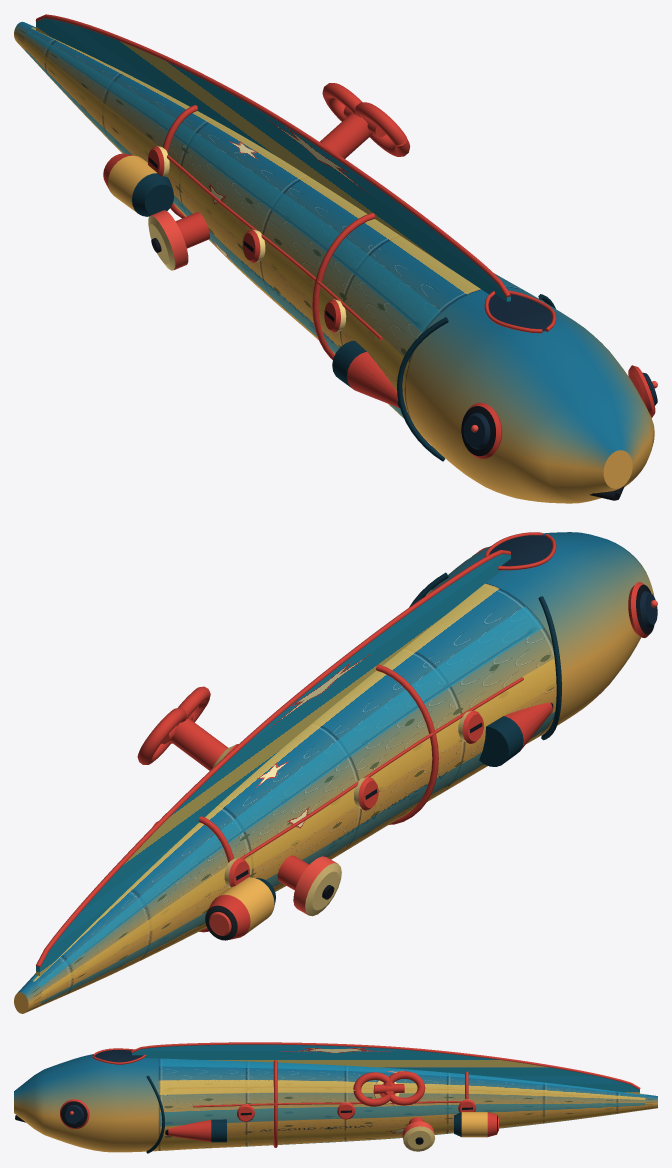
The picture shows the model from 3 angles, top to bottom: view 1: azimuth 30°, elevation 25°; view 2: azimuth 150°, elevation 25°; view 3: azimuth 270°, elevation 25°; orthographic projection. The views are drawn at different scales.
Parts seen in each view (by area): view 1: moray_hull; view 2: moray_hull; view 3: moray_hull.
Boxes of the visible parts, x1,y1,x2,y2 form: moray_hull: [14, 14, 657, 503]; moray_hull: [14, 532, 657, 1013]; moray_hull: [14, 1042, 657, 1153].
Bounding box in the file's own units: 12.07 × 10.8 × 60.
1 material, 1 textured.
